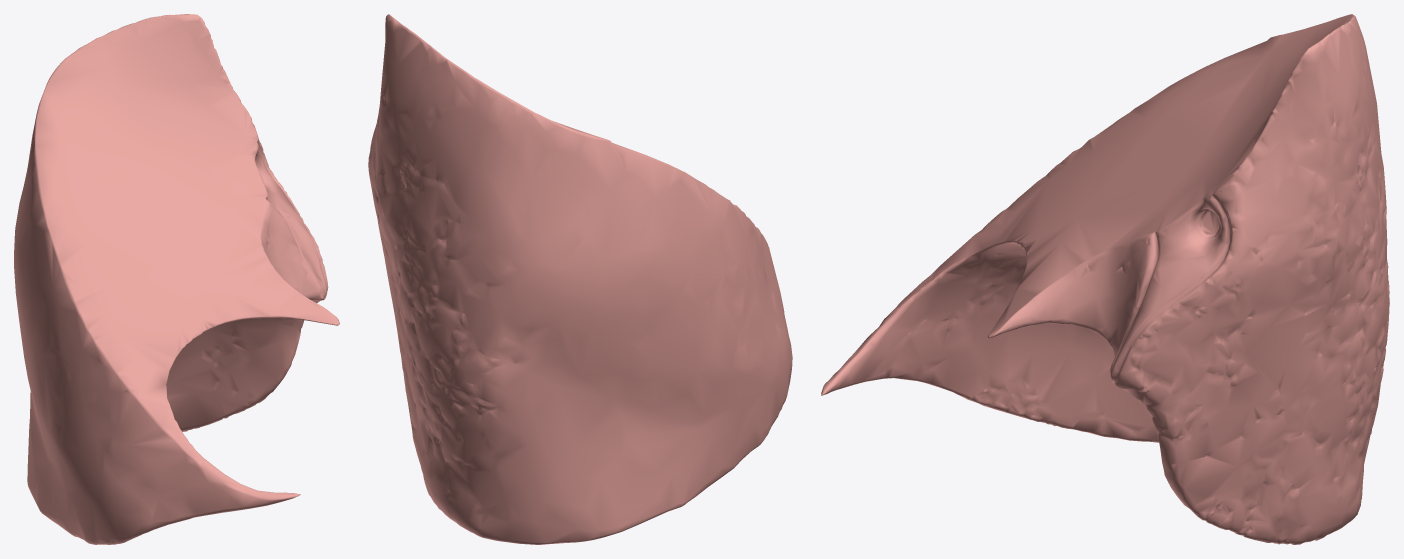
The model's file is Inferior_lobe_right_lung.glb.
The picture shows the model from 3 angles, left to right: view 1: azimuth 30°, elevation 25°; view 2: azimuth 150°, elevation 25°; view 3: azimuth 270°, elevation 25°; orthographic projection. The views are drawn at different scales.
Visible parts, largest first — view 1: Inferior_lobe_of_right_lung_Generated_Mesh_From_X3D.815; view 2: Inferior_lobe_of_right_lung_Generated_Mesh_From_X3D.815; view 3: Inferior_lobe_of_right_lung_Generated_Mesh_From_X3D.815.
Part boxes in pixels (x1,y1,x2,y2): Inferior_lobe_of_right_lung_Generated_Mesh_From_X3D.815: (14, 14, 339, 544); Inferior_lobe_of_right_lung_Generated_Mesh_From_X3D.815: (368, 14, 792, 544); Inferior_lobe_of_right_lung_Generated_Mesh_From_X3D.815: (821, 14, 1389, 544).
Size of the model in its own units: 0.1306 by 0.1849 by 0.1799.
